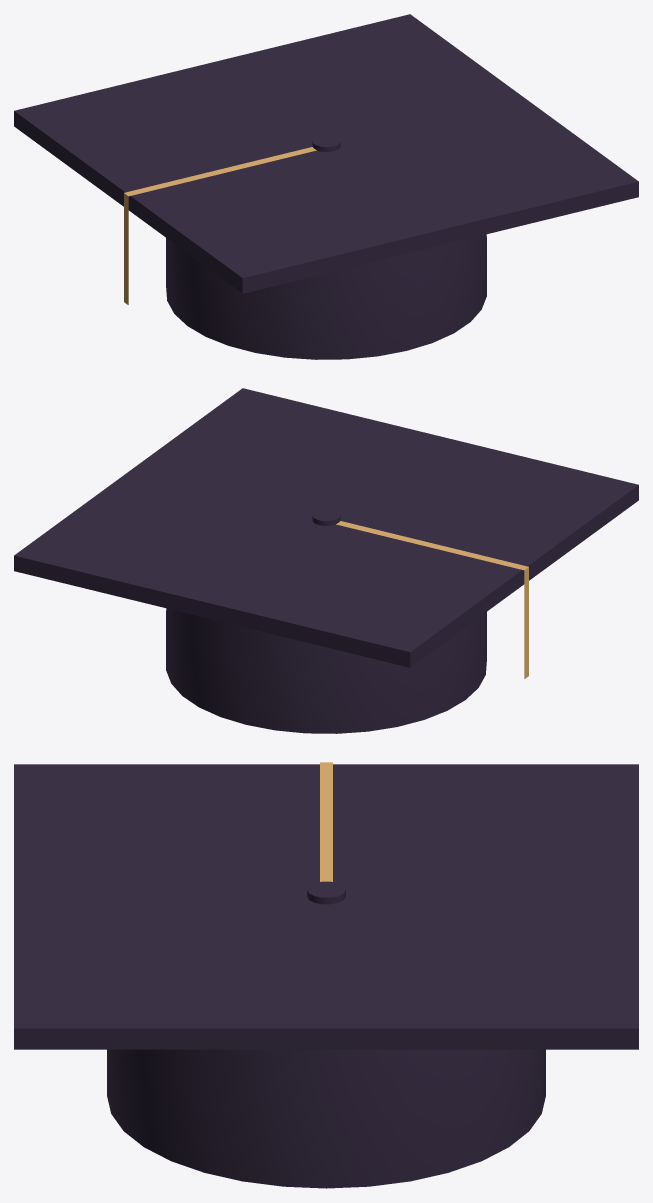
The model's file is bruno-20k-hat.glb.
The picture shows the model from 3 angles, top to bottom: view 1: azimuth 30°, elevation 25°; view 2: azimuth 150°, elevation 25°; view 3: azimuth 270°, elevation 25°; orthographic projection. The views are drawn at different scales.
Visible parts, largest first — view 1: Plane; view 2: Plane; view 3: Plane.
Boxes of the visible parts, left/top/right/bottom form: Plane: left=14, top=14, right=638, bottom=359; Plane: left=14, top=388, right=638, bottom=733; Plane: left=14, top=762, right=638, bottom=1188.
Size of the model in its own units: 0.8903 by 0.3222 by 0.8856.
